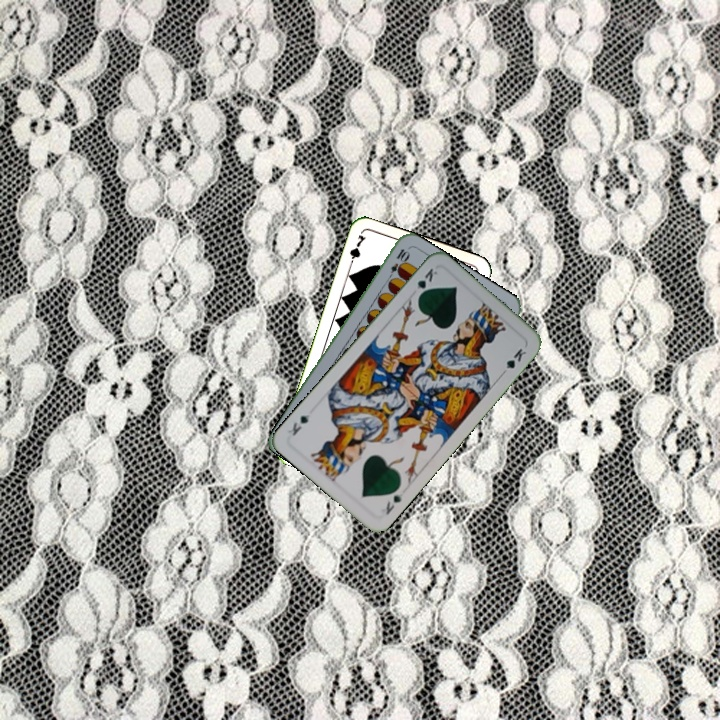E10: (384, 245, 411, 283)
G7: (345, 231, 368, 270)
GK: (412, 264, 440, 301), (382, 489, 406, 518)
